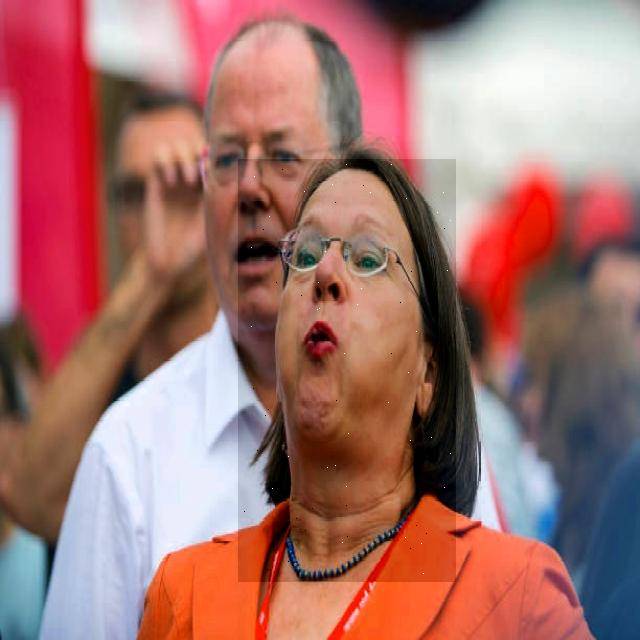Spitting: (238, 159, 456, 582)
